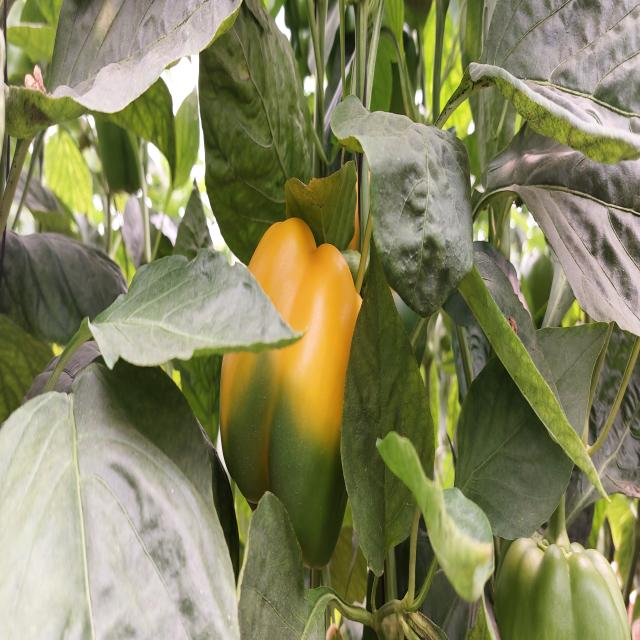GreenishYellow--Can-be-Harvested: (223, 192, 361, 568)
